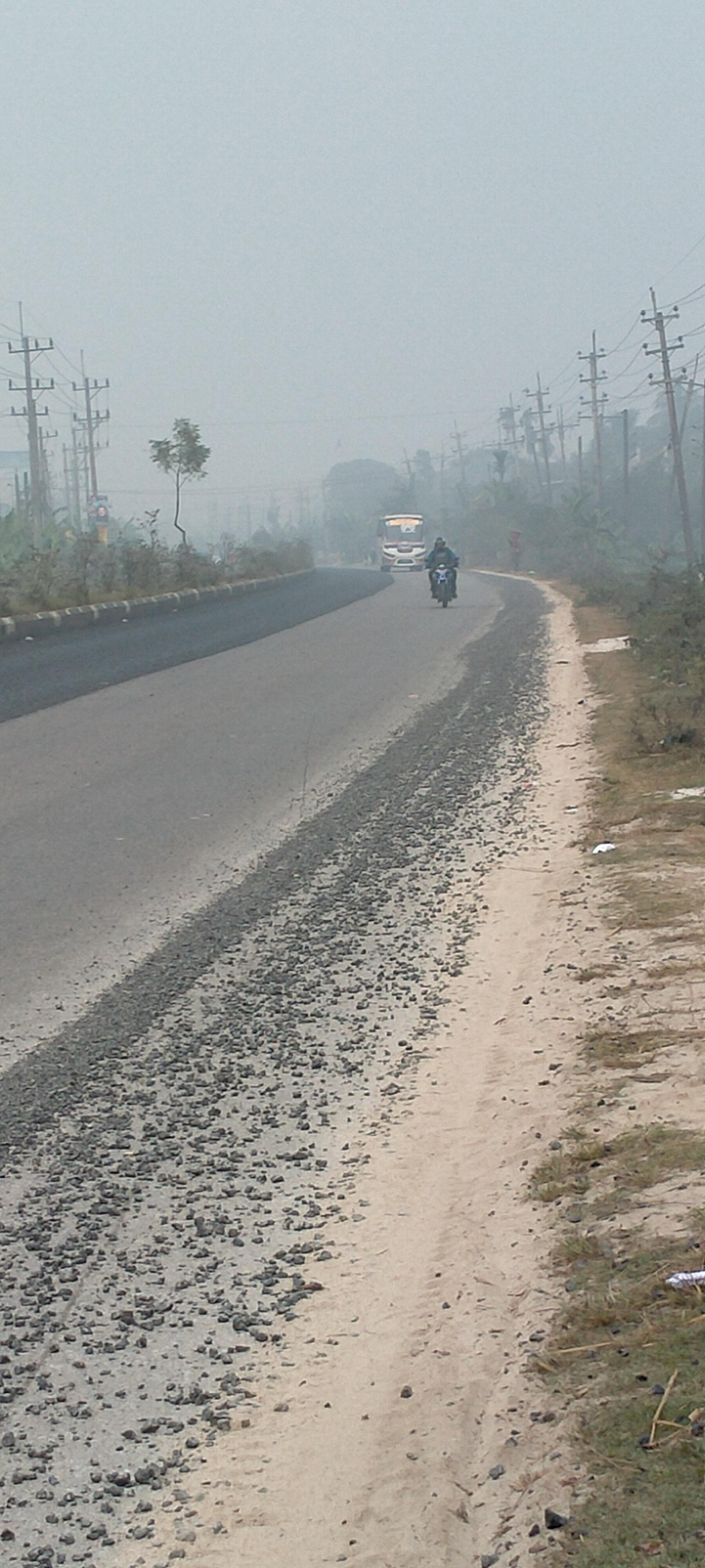Bike: (421, 529, 462, 617)
Bus: (369, 501, 432, 586)
